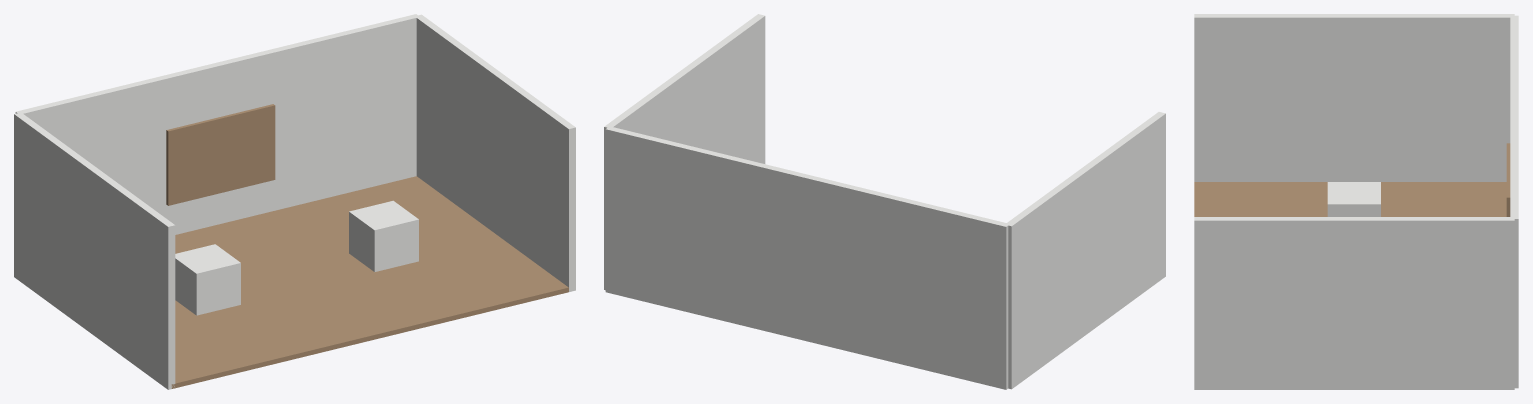
Rendered from gallery_interior.glb.
3 views of the same model, side by side, from view 1: azimuth 30°, elevation 25°; view 2: azimuth 150°, elevation 25°; view 3: azimuth 270°, elevation 25° (orthographic). The views are drawn at different scales.
Visible parts, largest first — view 1: back, floor, left, right, frame, plinth2, plinth; view 2: back, left, right; view 3: right, left, floor, back, plinth, frame.
Boxes of the visible parts, x1=… form: back: x1=15, y1=14, x2=419, y2=234; floor: x1=171, y1=176, x2=568, y2=388; left: x1=14, y1=113, x2=175, y2=389; right: x1=415, y1=14, x2=575, y2=291; frame: x1=166, y1=104, x2=275, y2=205; plinth2: x1=349, y1=200, x2=418, y2=271; plinth: x1=175, y1=244, x2=240, y2=315; back: x1=605, y1=126, x2=1009, y2=389; left: x1=1005, y1=112, x2=1165, y2=389; right: x1=604, y1=14, x2=765, y2=290; right: x1=1194, y1=217, x2=1514, y2=389; left: x1=1194, y1=14, x2=1514, y2=181; floor: x1=1194, y1=182, x2=1506, y2=216; back: x1=1510, y1=15, x2=1518, y2=388; plinth: x1=1327, y1=182, x2=1380, y2=216; frame: x1=1506, y1=143, x2=1510, y2=216.
Size of the model in its own units: 9.16 by 3.5 by 6.08.
